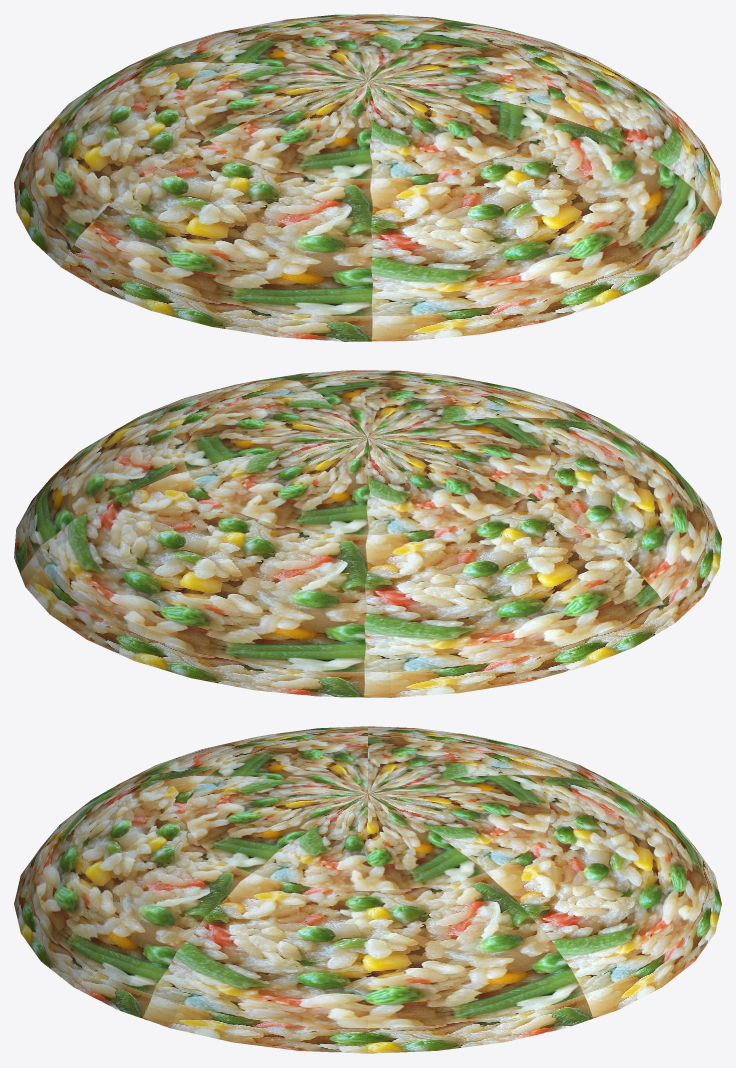
The model's file is jidlo-rizoto.fbx.
The picture shows the model from 3 angles, top to bottom: view 1: azimuth 30°, elevation 25°; view 2: azimuth 150°, elevation 25°; view 3: azimuth 270°, elevation 25°; orthographic projection.
Visible parts, largest first — view 1: Sphere; view 2: Sphere; view 3: Sphere.
Part boxes in pixels (x1,y1,x2,y2): Sphere: (14, 14, 721, 341); Sphere: (14, 370, 721, 697); Sphere: (14, 726, 721, 1053).
Bounding box in the file's own units: 1.37 × 0.2353 × 1.37.
Materials: 1 (1 with a texture image).
